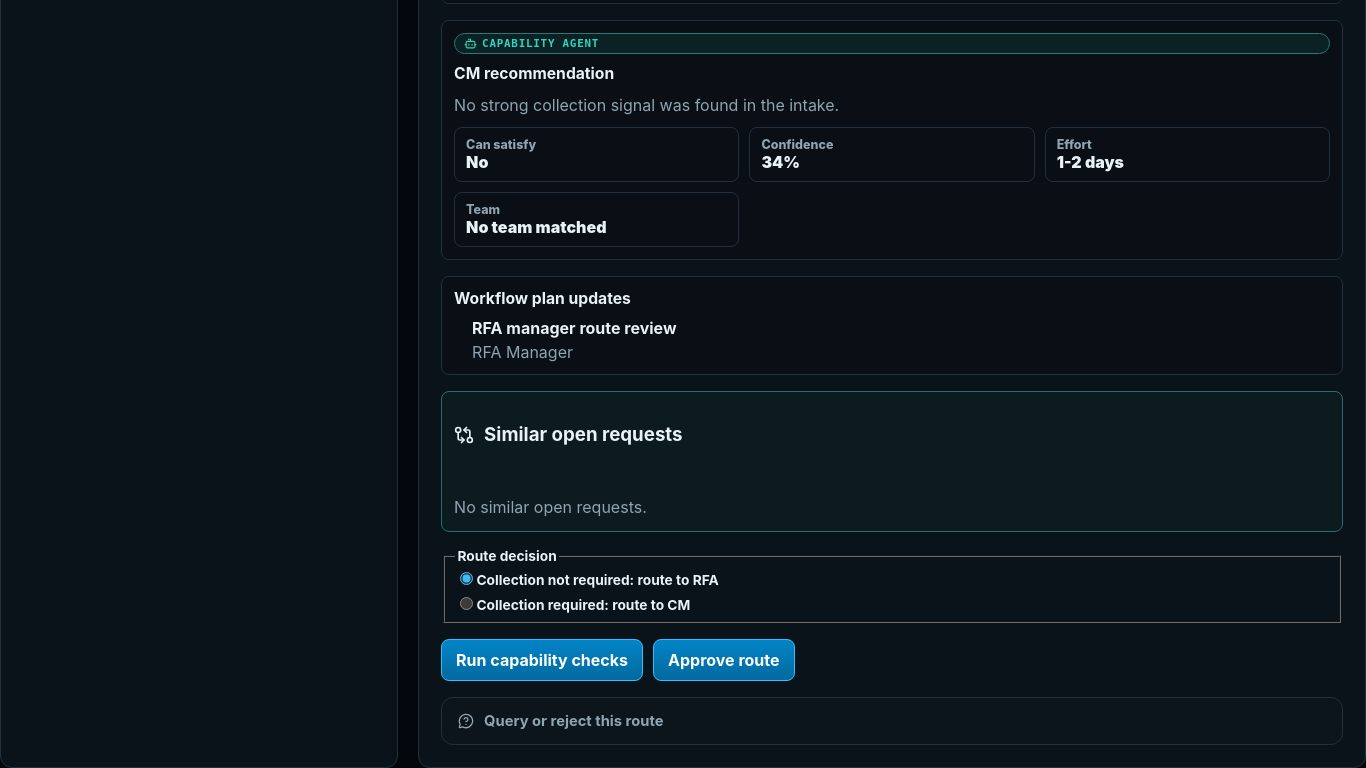
Test: keeps clarification disabled until a question is provided
(page scrolled)
Click the heading "Query or reject this route": [561, 721] box x1=458 y1=712 x2=663 y2=730
(page scrolled)
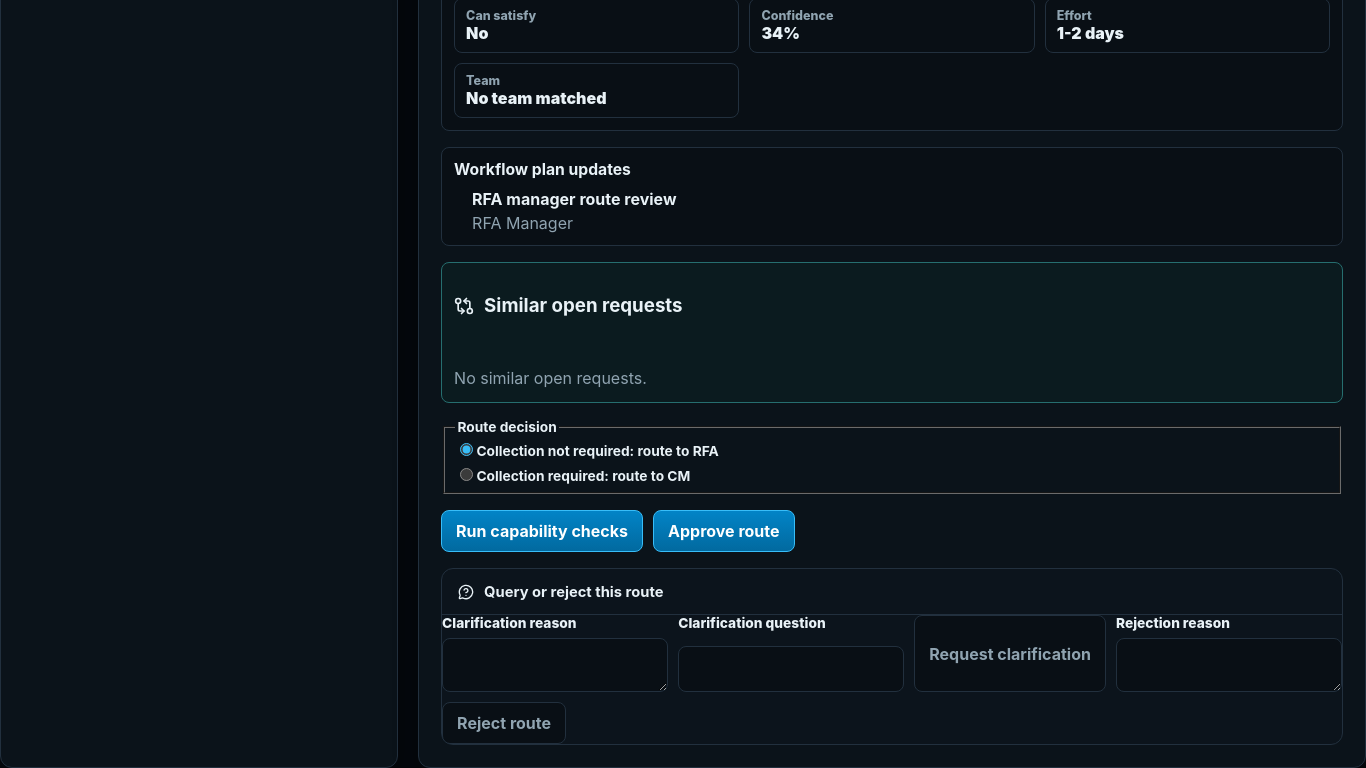
In the text box labelled "Clarification reason": [555, 665] box x1=442 y1=638 x2=668 y2=692, type "Need tighter scope."
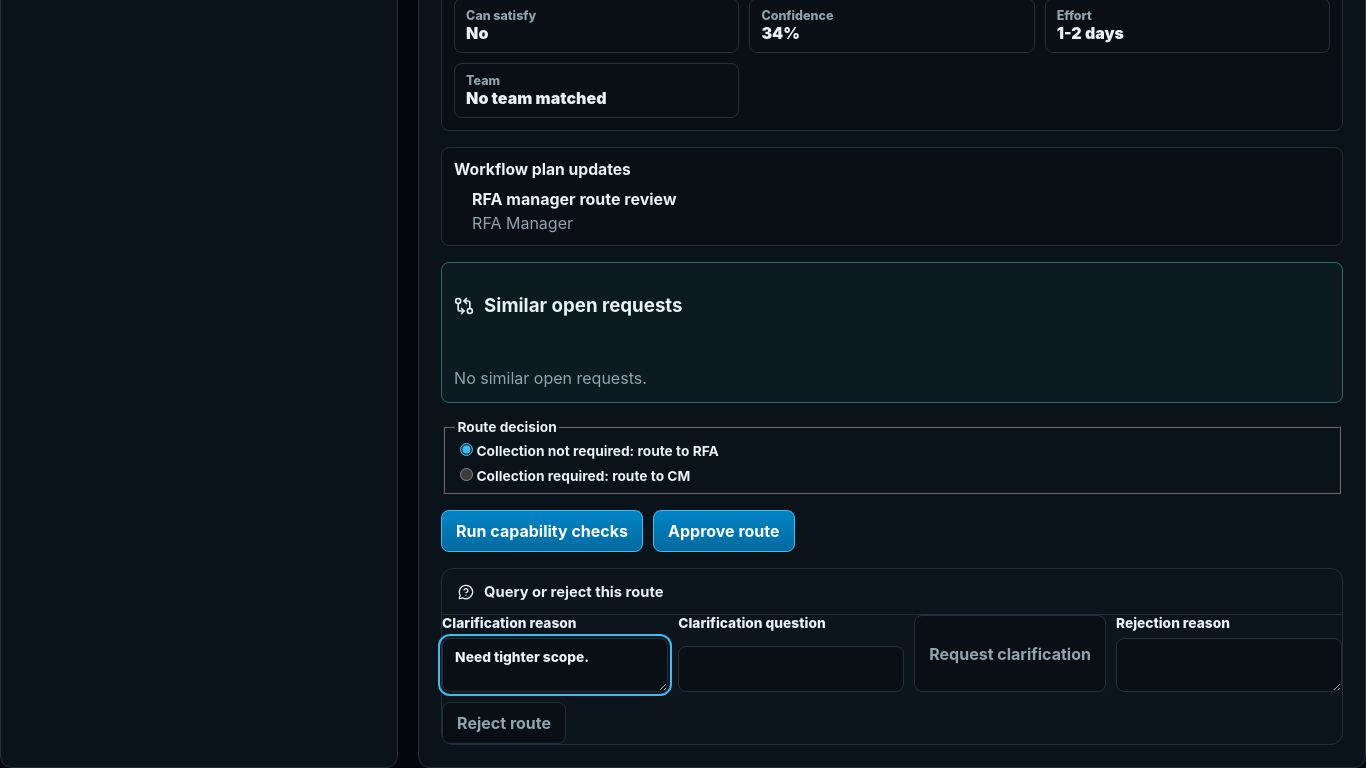
Expected: the button "Request clarification" is disabled, x1=914 y1=615 x2=1106 y2=692
In the field labelled "Clarification question": [791, 669] box x1=678 y1=646 x2=904 y2=692, type "Which region?"
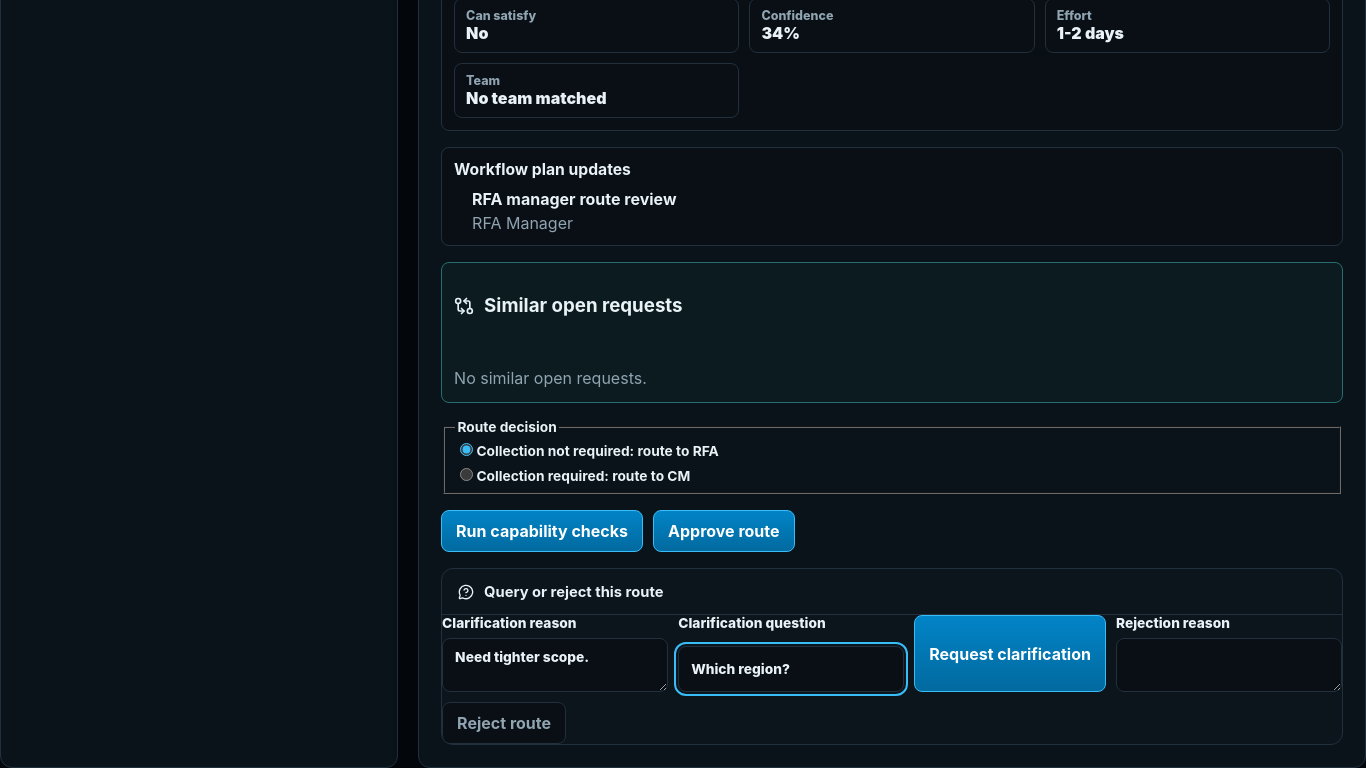
Expected: the button "Request clarification" is enabled, x1=914 y1=615 x2=1106 y2=692
